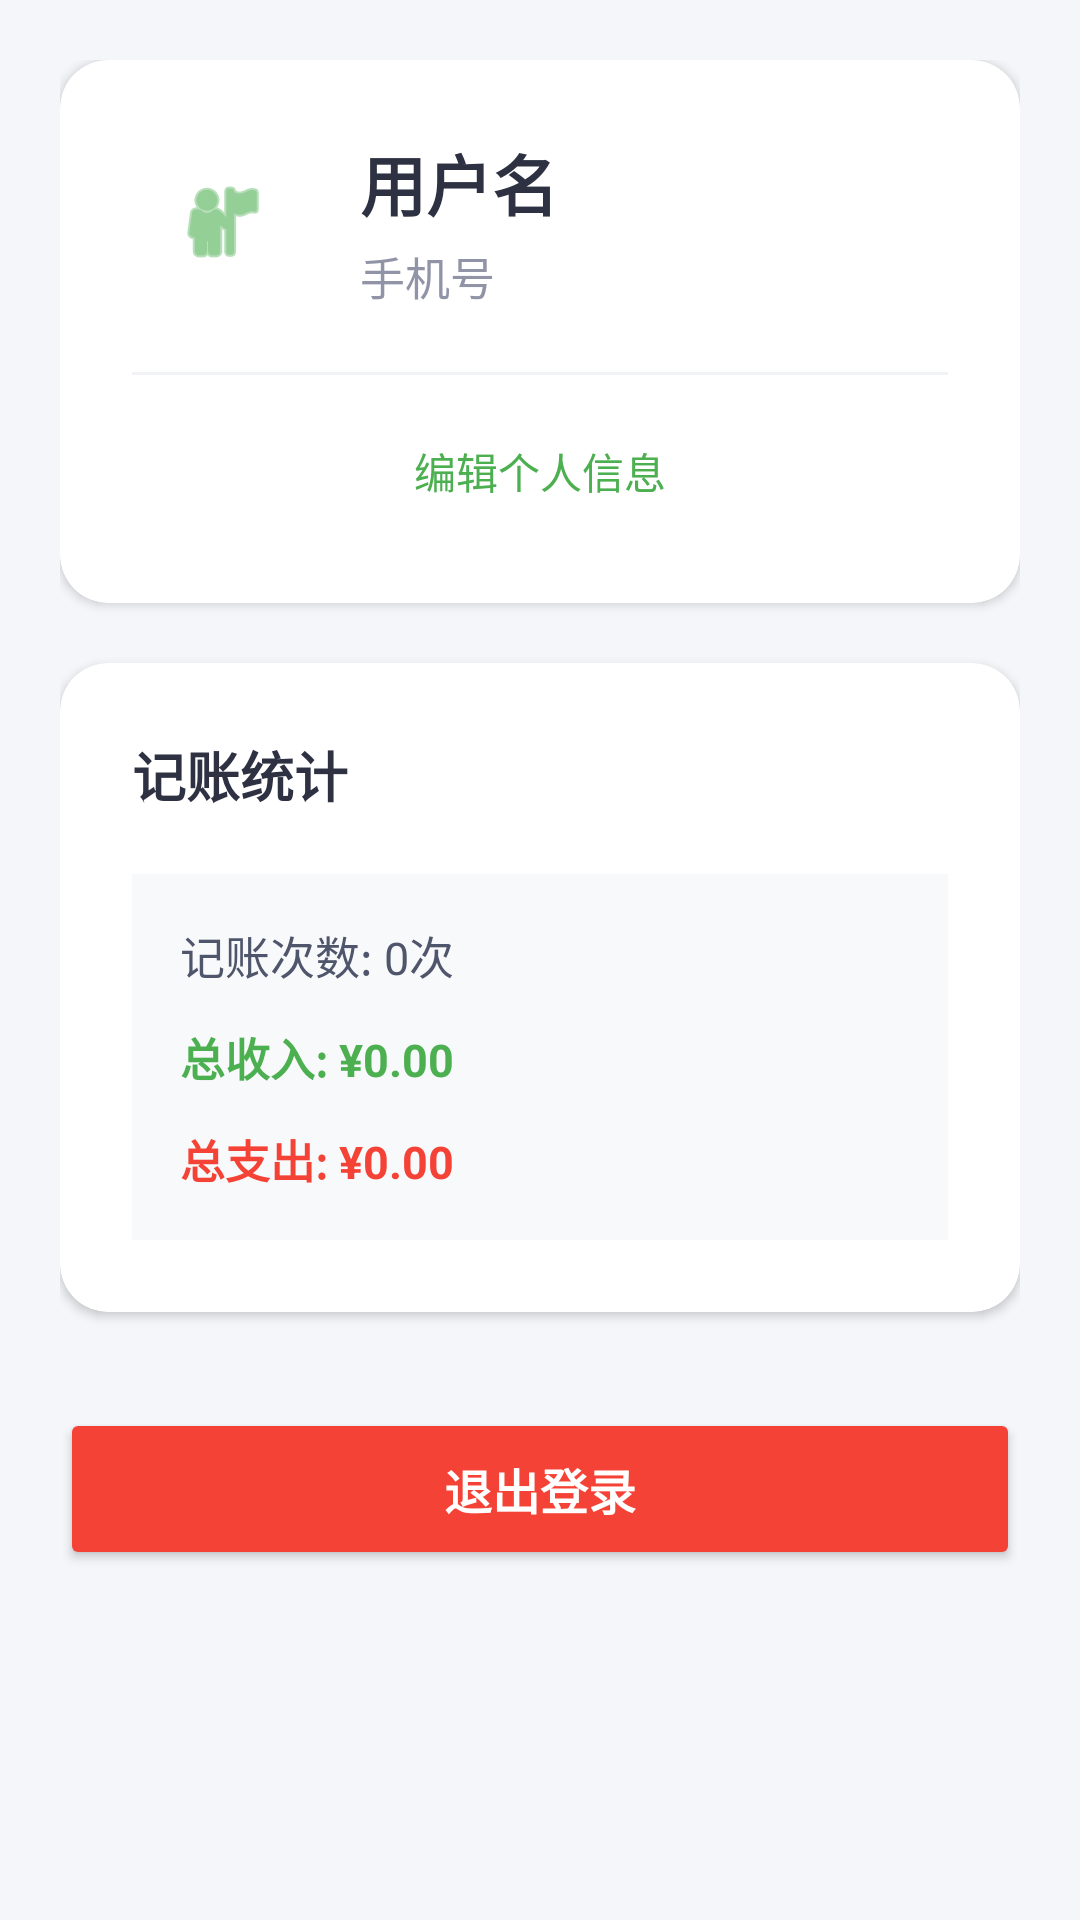

Where icons sit on this 1080 x 1920 app screen, as (x1, y1, x2, y2):
myplaces: (187, 186, 259, 258)
